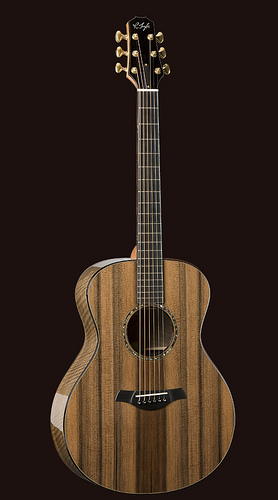guitar: (46, 14, 237, 500)
